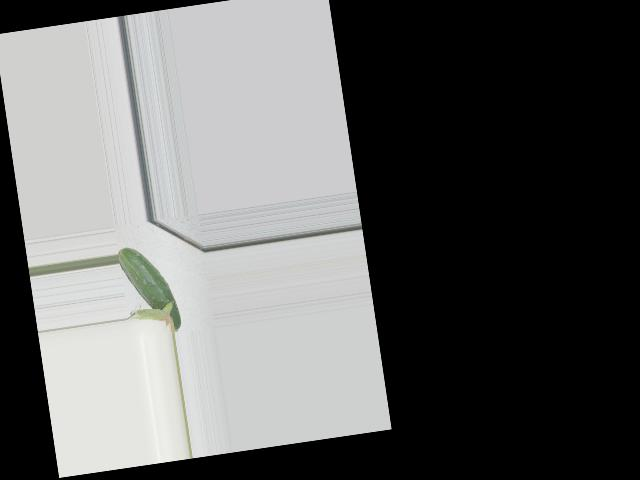cucumber: (116, 241, 181, 338)
